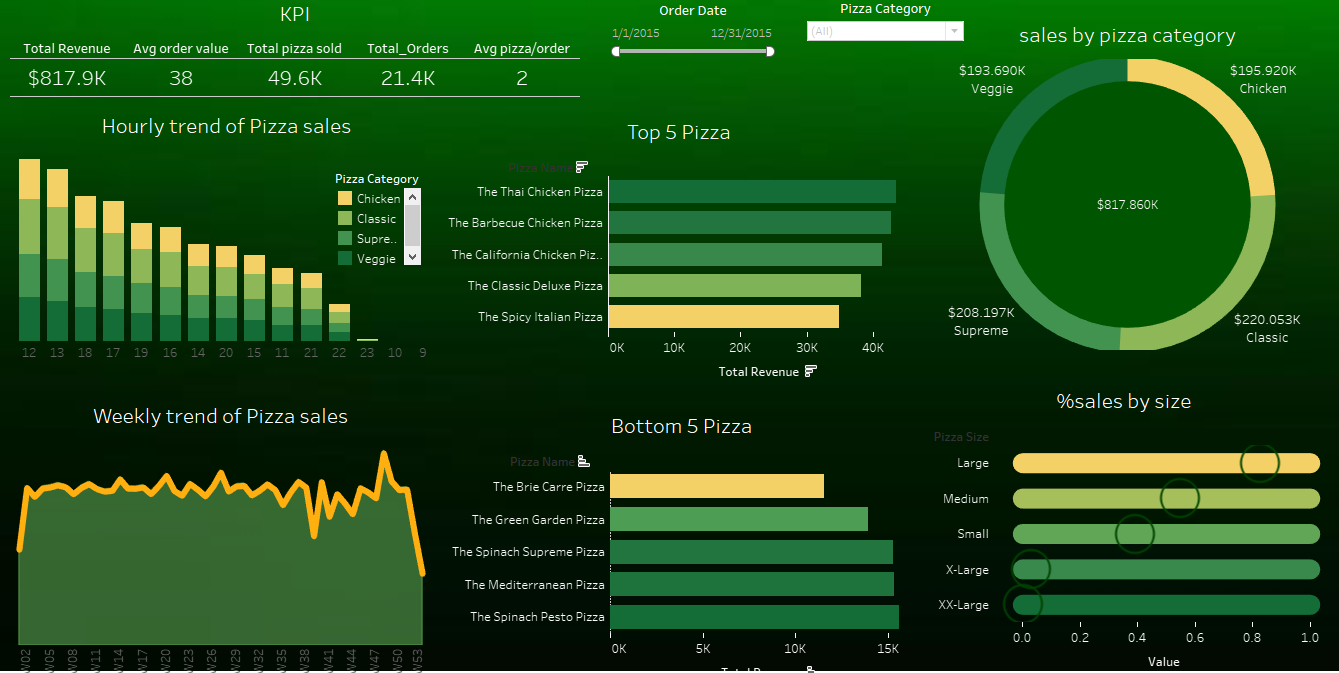

Layout of this report page (visuals, bound fields, positions):
{"tool":"tableau","page":{"name":"Dashboard 1","canvas":[1000,1000],"units":"permille","ordinal":0},"visuals":[{"type":"image","param":"Image/light-green-blur-template-vector.jpg","box":[6.9,13.5,986.1,973]},{"type":"worksheet","title":"KPI","mark":"Automatic","box":[18.1,37.6,417.6,138.7]},{"type":"filter","title":"Top 5 Pizza","param":"[federated.0w8yai107s5wvp1gez2rf041udgf].[none:pizza_category:nk]","box":[599.3,43.5,119.5,104.6]},{"type":"filter","title":"Top 5 Pizza","param":"[federated.0w8yai107s5wvp1gez2rf041udgf].[none:order_date:qk]","box":[455.6,45.8,126.1,76.4]},{"type":"worksheet","title":"sales by category_donut","mark":"Pie","rows":["Calculation_1552053090282889217","Calculation_1552053090282889217"],"box":[669.9,67,333.1,452.4]},{"type":"worksheet","title":"Hourly trend of Pizza sales","mark":"Bar","rows":["Calculation_1307169860210253828"],"cols":["order_time"],"box":[21.7,189.2,309.6,345.5]},{"type":"worksheet","title":"Top 5 Pizza","mark":"Automatic","rows":["pizza_name"],"cols":["Calculation_1307169860208939009"],"box":[339.2,197.4,338,371.3]},{"type":"legend","title":"Hourly trend of Pizza sales","param":"[federated.0w8yai107s5wvp1gez2rf041udgf].[none:pizza_category:nk]","box":[255.9,275,64.6,129.3]},{"type":"worksheet","title":"%sales by size_slider","mark":"Line","rows":["pizza_size"],"cols":["Calculation_1307169860208939009"],"box":[680.1,562.9,307.8,411.3]},{"type":"worksheet","title":"Weekly trend of Pizza sales","mark":"Area","rows":["Calculation_1307169860210253828","Calculation_1307169860210253828"],"cols":["order_date"],"box":[21.7,582.8,301.2,378.4]},{"type":"worksheet","title":"Bottom 5","mark":"Automatic","rows":["pizza_name"],"cols":["Calculation_1307169860208939009"],"box":[340.4,595.8,339.2,380.7]}]}

Visuals, with their boxes on the dashboard's canvas, which has no fixed pixel size, in thousandths of its width and height (x1, y1, x2, y2). These are canvas units, not pixel positions in the 1339x673 screenshot, which may show the page scaled, cropped or inside an application window:
image: <region>7, 14, 993, 986</region>
"KPI" worksheet: <region>18, 38, 436, 176</region>
"Top 5 Pizza" filter: <region>599, 44, 719, 148</region>
"Top 5 Pizza" filter: <region>456, 46, 582, 122</region>
"sales by category_donut" worksheet (Pie marks): <region>670, 67, 1003, 519</region>
"Hourly trend of Pizza sales" worksheet (Bar marks): <region>22, 189, 331, 535</region>
"Top 5 Pizza" worksheet: <region>339, 197, 677, 569</region>
"Hourly trend of Pizza sales" legend: <region>256, 275, 320, 404</region>
"%sales by size_slider" worksheet (Line marks): <region>680, 563, 988, 974</region>
"Weekly trend of Pizza sales" worksheet (Area marks): <region>22, 583, 323, 961</region>
"Bottom 5" worksheet: <region>340, 596, 680, 976</region>
